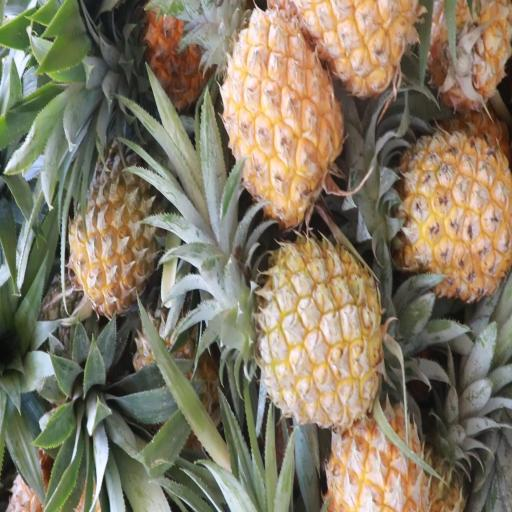Pineapple - v8 v1: (214, 9, 348, 230), (246, 229, 384, 431), (367, 127, 512, 300), (65, 125, 155, 314)
